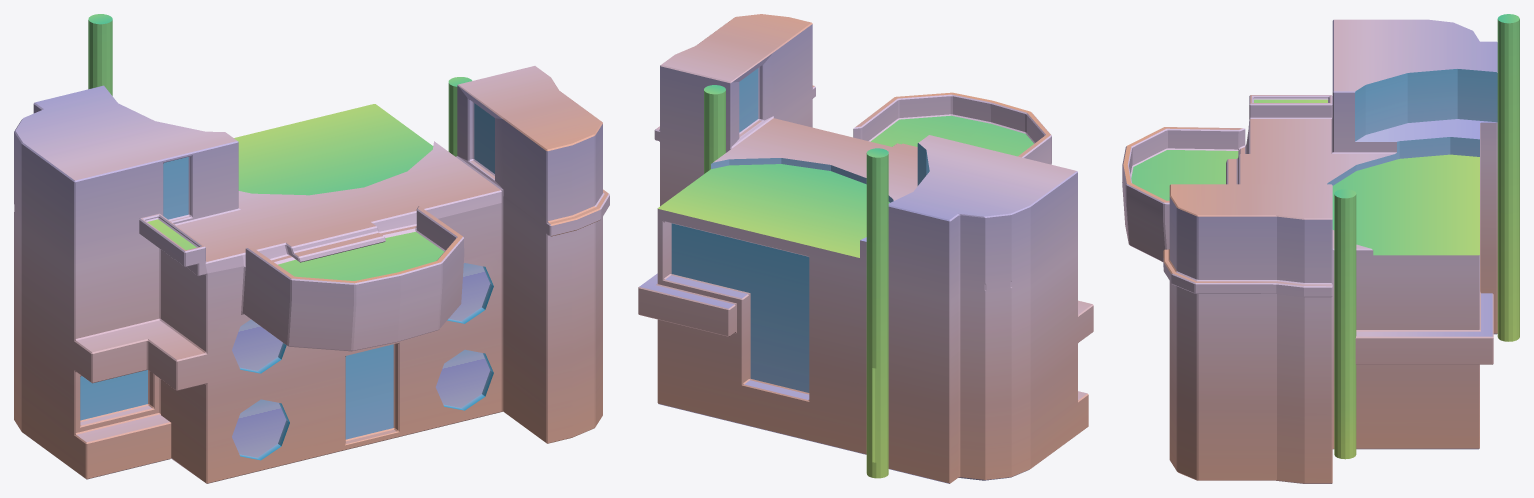
File: SM_PrototypeBuilding_01.glb
3 views of the same model, side by side, from view 1: azimuth 30°, elevation 25°; view 2: azimuth 150°, elevation 25°; view 3: azimuth 270°, elevation 25° (orthographic). The views are drawn at different scales.
Parts seen in each view (by area): view 1: SM_Building_01; view 2: SM_Building_01; view 3: SM_Building_01.
Part boxes in pixels (<box>): SM_Building_01: <box>14,14,609,483</box>; SM_Building_01: <box>638,14,1093,483</box>; SM_Building_01: <box>1122,14,1519,483</box>.
Size of the model in its own units: 14.3 by 10.32 by 11.68.
1 material, 1 textured.
